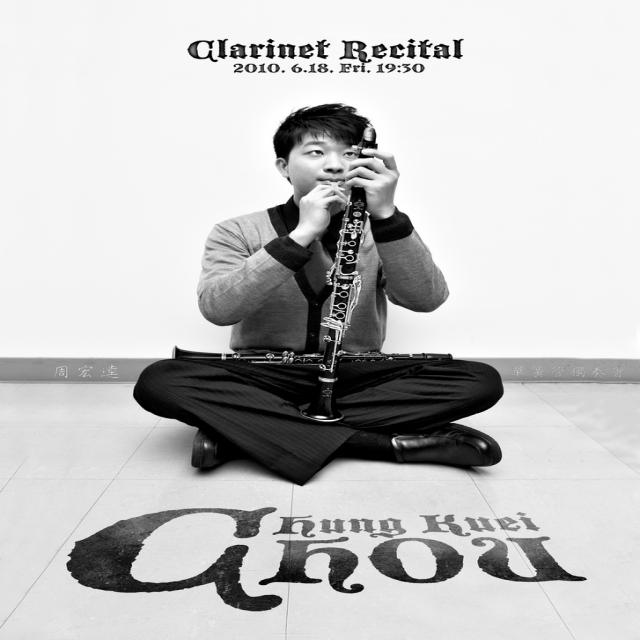clarinet: (307, 122, 386, 430)
